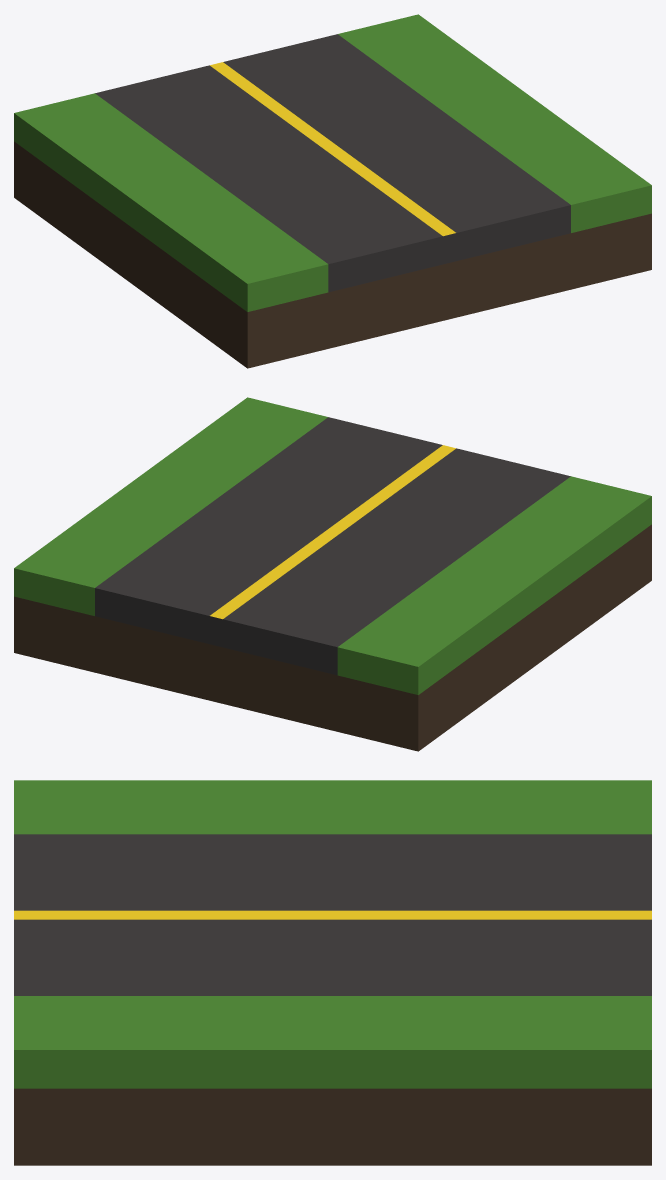
File: tiles_tile-runway-straight.fbx
3 views of the same model, one above another, from view 1: azimuth 30°, elevation 25°; view 2: azimuth 150°, elevation 25°; view 3: azimuth 270°, elevation 25° (orthographic). The views are drawn at different scales.
Parts seen in each view (by area): view 1: tiles_tile_runway_straight; view 2: tiles_tile_runway_straight; view 3: tiles_tile_runway_straight.
Part boxes in pixels (<box>): tiles_tile_runway_straight: <box>14,14,651,368</box>; tiles_tile_runway_straight: <box>14,397,651,751</box>; tiles_tile_runway_straight: <box>14,780,651,1165</box>.
Bounding box in the file's own units: 200 × 40 × 200.
